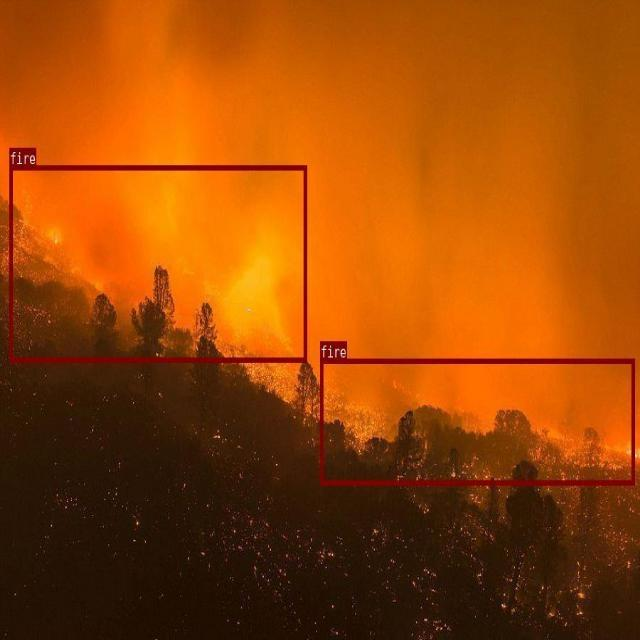fire: (8, 164, 306, 362), (319, 358, 634, 484)
